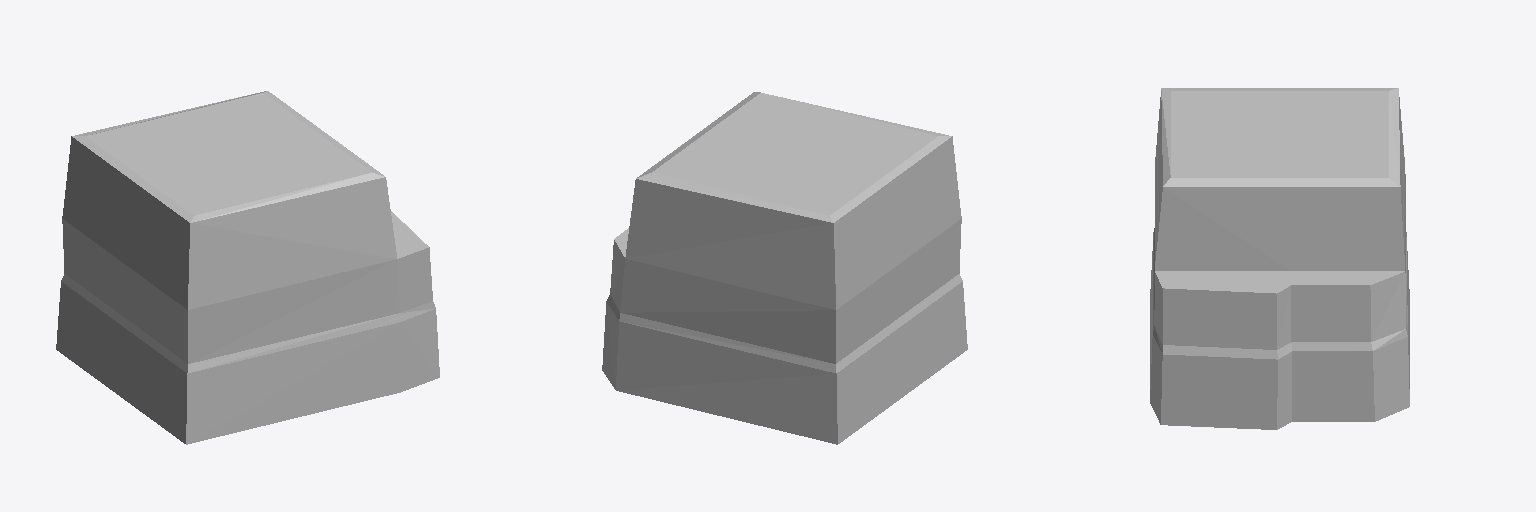
File: triple.obj
3 views of the same model, side by side, from view 1: azimuth 30°, elevation 25°; view 2: azimuth 150°, elevation 25°; view 3: azimuth 270°, elevation 25° (orthographic).
Size of the model in its own units: 1.31 by 1.01 by 1.09.